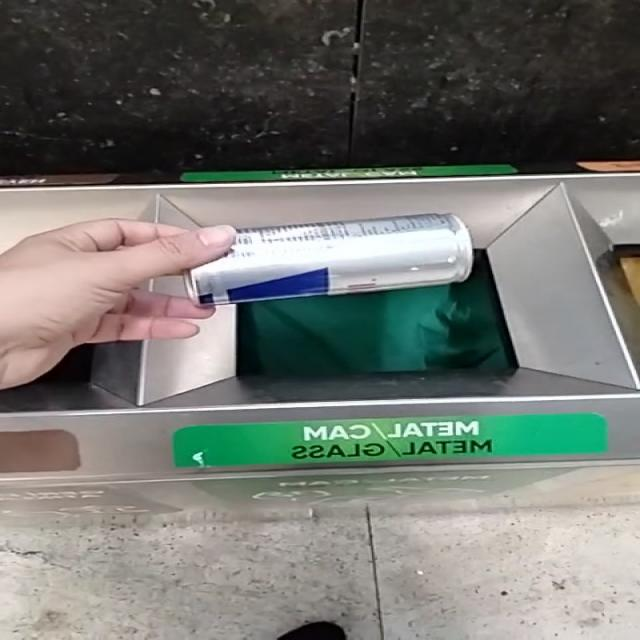bin: (0, 174, 639, 485)
metal: (188, 213, 473, 304)
